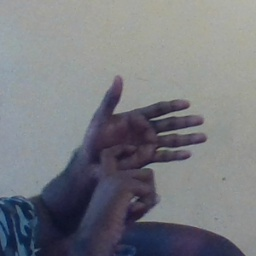R: (66, 70, 209, 225)
